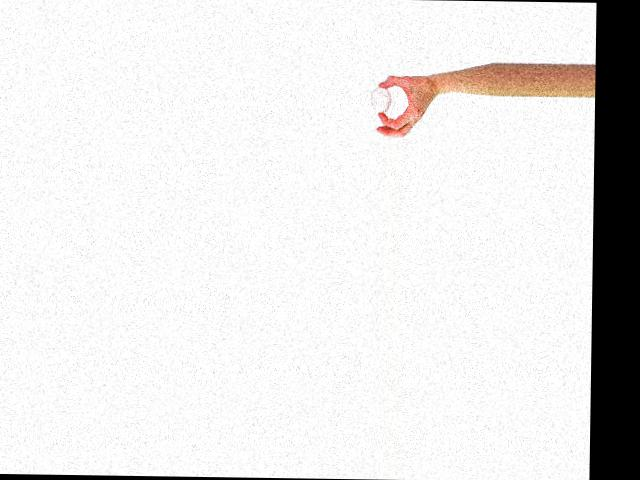egg: (370, 86, 392, 112)
